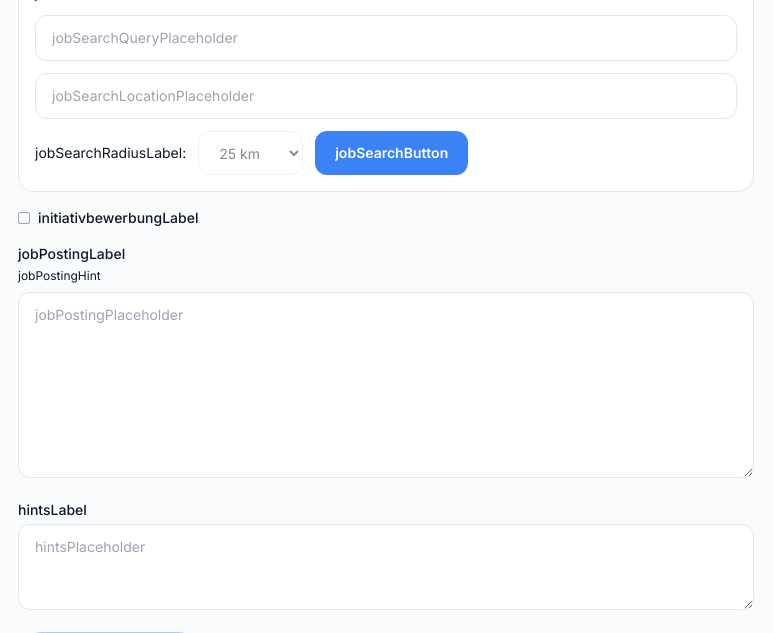
Test: GenerateForm › Generierungsflow › zeigt E-Mail-Entwurf-Sektion unterhalb von Anschreiben und Lebenslauf nach der Generierung
Step 1. Type "Stelle" into the text box labelled "jobPostingLabel" → (386, 385), box [18,292,754,478]
(page scrolled)
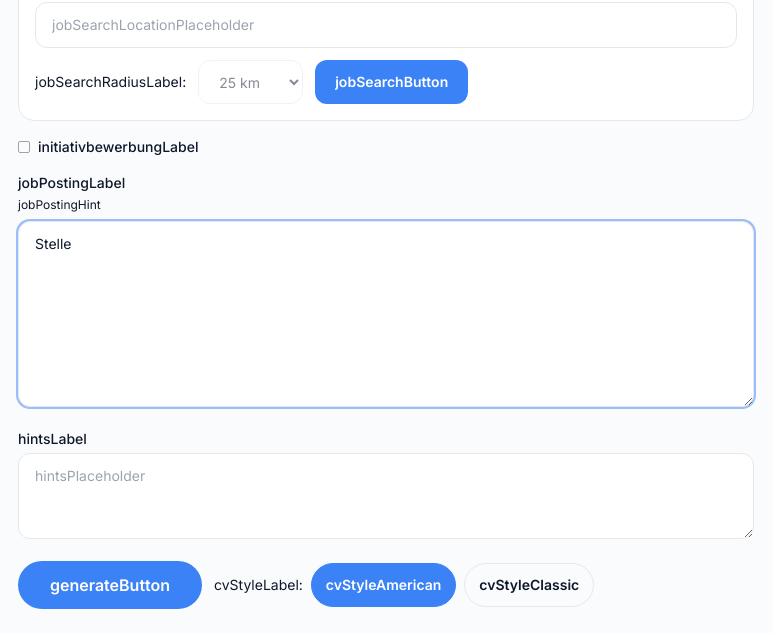
Step 2. Click the button "generateButton" → click(110, 585), box [18,561,202,609]
(page scrolled)
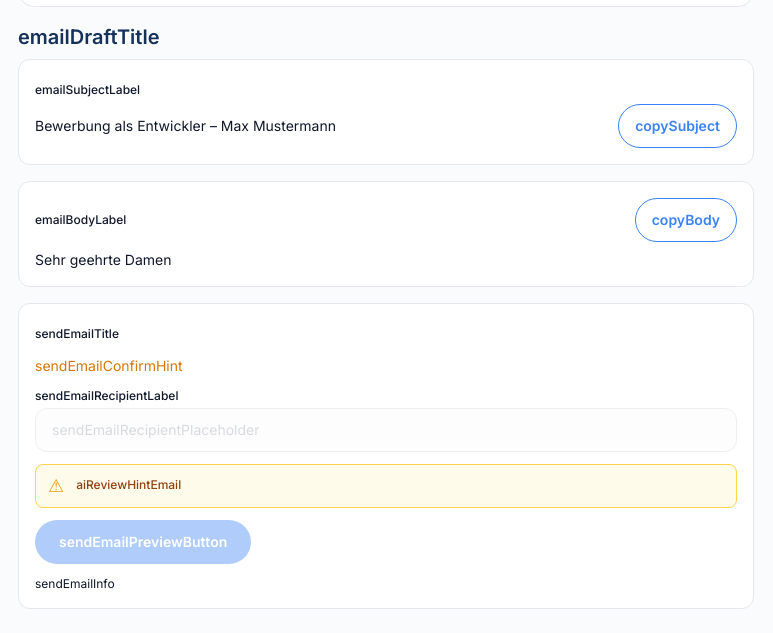
Check: the element with test id "email-draft-section" is shown
